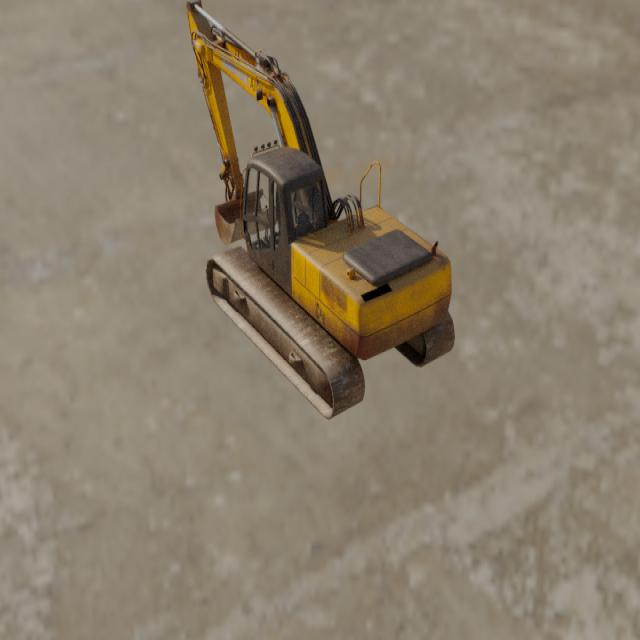excavator: (185, 0, 455, 421)
